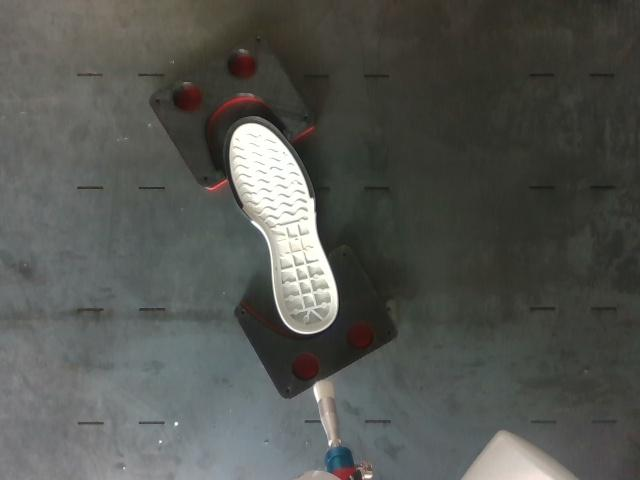shoes: (224, 117, 337, 332)
